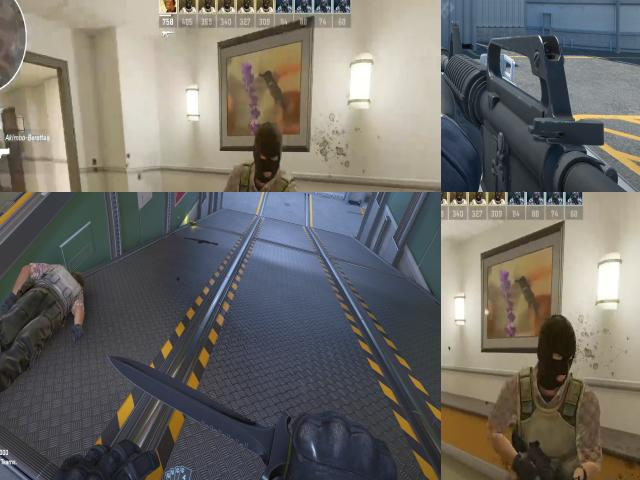Bomb: (188, 218, 198, 228)
Dead: (0, 250, 90, 422)
T: (488, 361, 617, 480), (223, 117, 294, 192)
T-Head: (526, 312, 581, 394), (243, 119, 293, 188)
